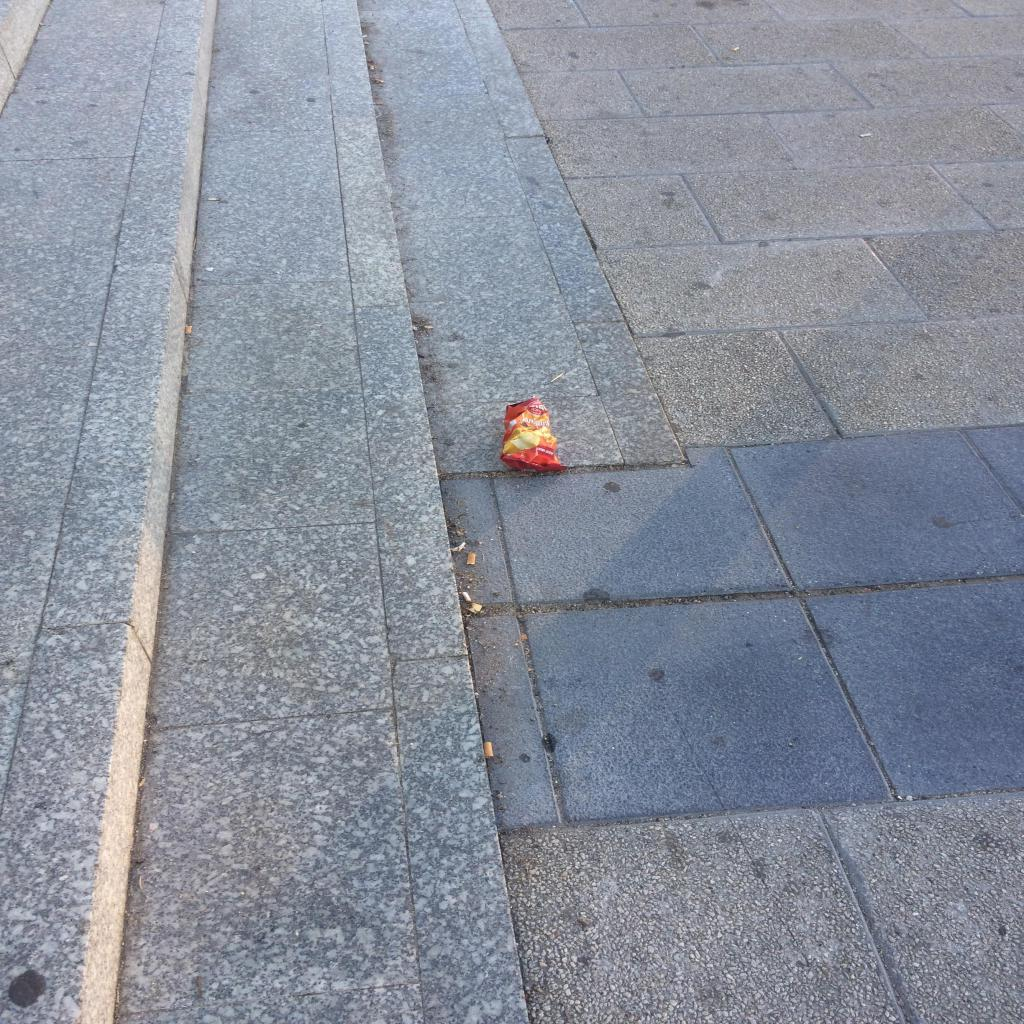Cigarette: (484, 742, 494, 758), (468, 553, 477, 566), (462, 592, 472, 602), (186, 326, 192, 334), (733, 46, 739, 52), (376, 80, 384, 84), (209, 198, 221, 200), (370, 66, 374, 70)
Crisp packet: (500, 396, 568, 472)
